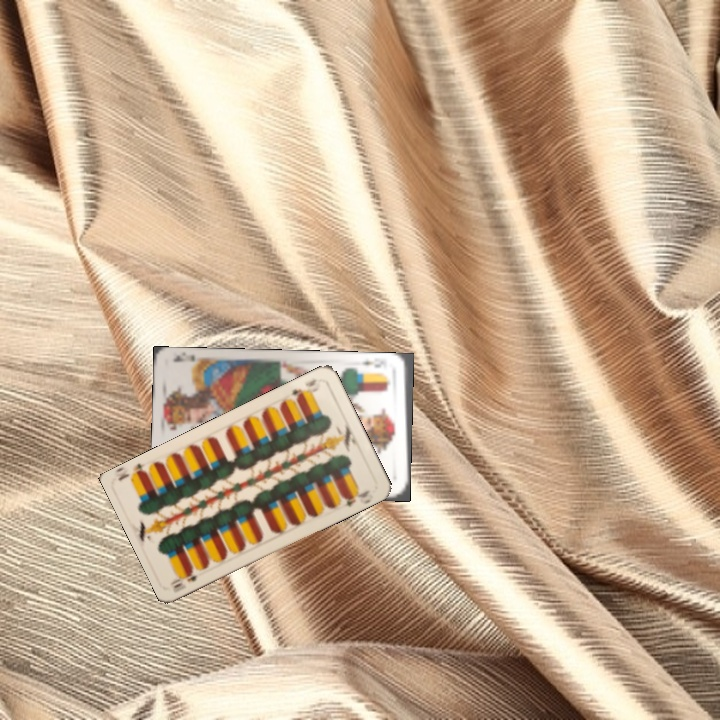E10: (287, 374, 323, 403), (167, 567, 199, 591)
EK: (357, 357, 389, 372)
